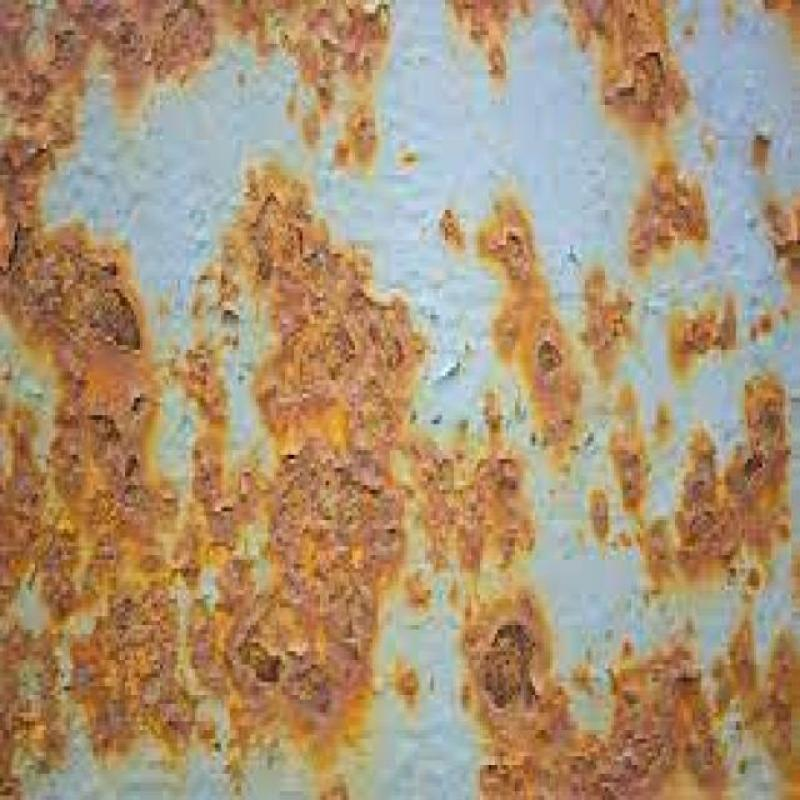corrosion: (25, 12, 767, 712)
